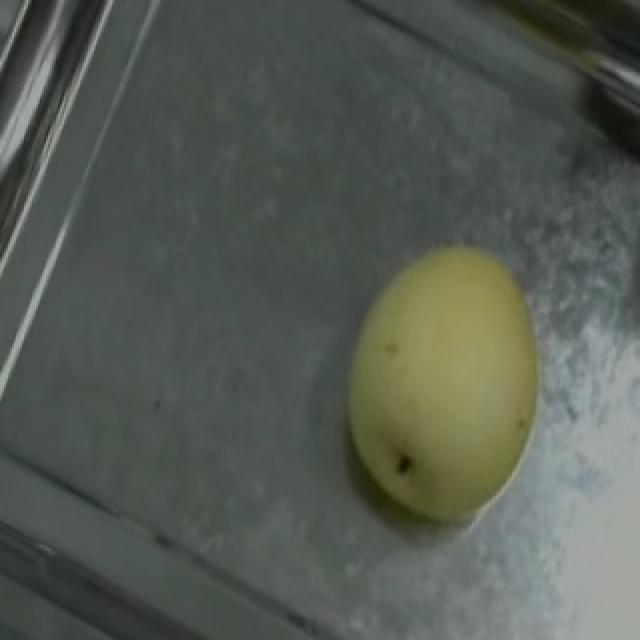Fruit: (296, 208, 584, 560)
